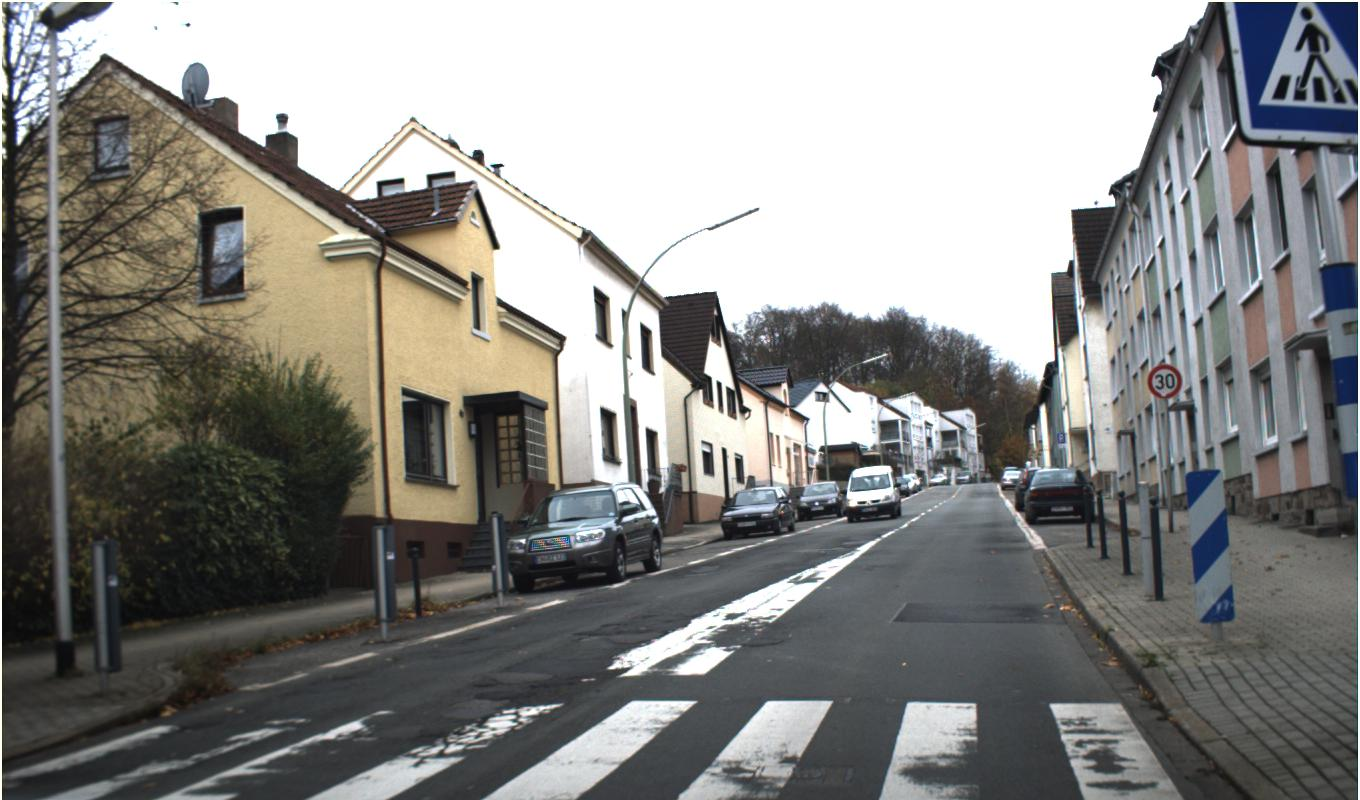prohibitory: (1146, 362, 1183, 399)
